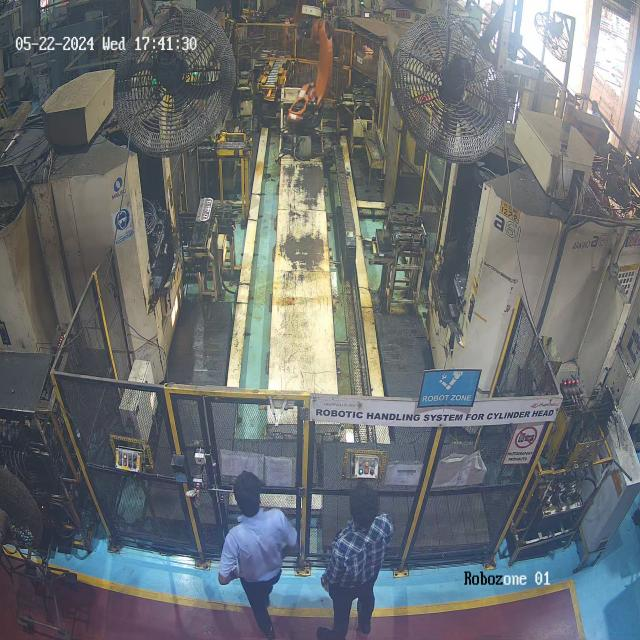person: (312, 471, 410, 640), (215, 477, 307, 640)
